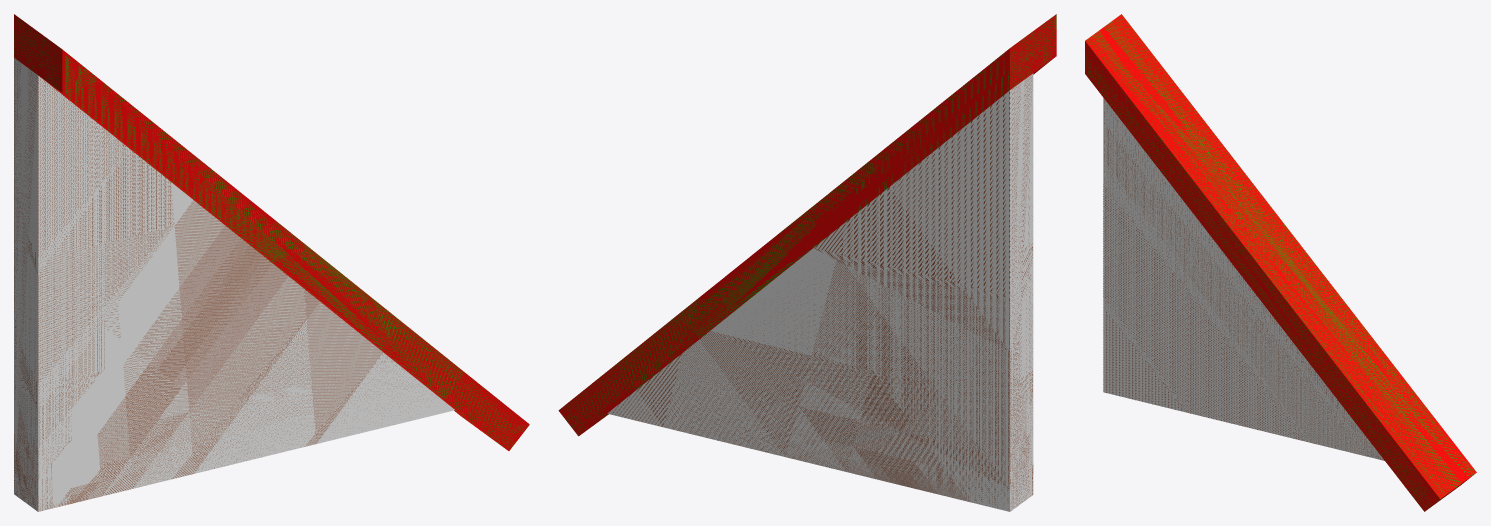
File: roof_gable_corner_roof.fbx
The picture shows the model from 3 angles, left to right: view 1: azimuth 30°, elevation 25°; view 2: azimuth 150°, elevation 25°; view 3: azimuth 330°, elevation 25°; orthographic projection. The views are drawn at different scales.
Visible parts, largest first — view 1: Mesh1_Group1 Model; view 2: Mesh1_Group1 Model; view 3: Mesh1_Group1 Model.
Boxes of the visible parts, x1,y1,x2,y2 form: Mesh1_Group1 Model: [14, 14, 529, 511]; Mesh1_Group1 Model: [558, 14, 1056, 511]; Mesh1_Group1 Model: [1085, 14, 1476, 511].
Bounding box in the file's own units: 1.12 × 1.17 × 0.2.
